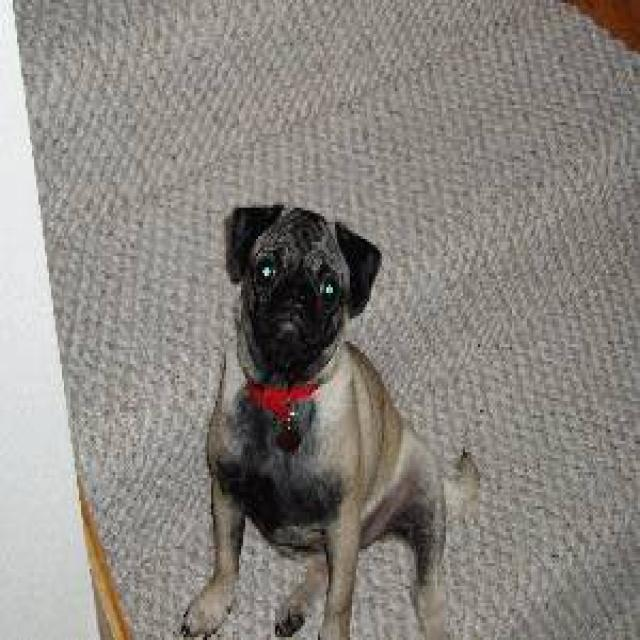dog-pug: (173, 196, 482, 634)
